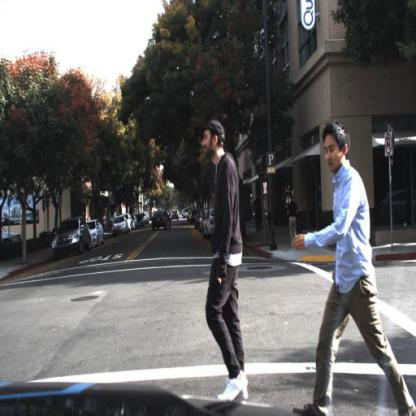car: (54, 213, 93, 259), (1, 223, 22, 252), (86, 219, 107, 248), (150, 208, 173, 234), (205, 211, 217, 242), (113, 214, 129, 235), (170, 208, 181, 223)
pedestrian: (284, 122, 416, 416), (194, 117, 254, 407), (197, 122, 254, 408), (286, 195, 300, 245)
